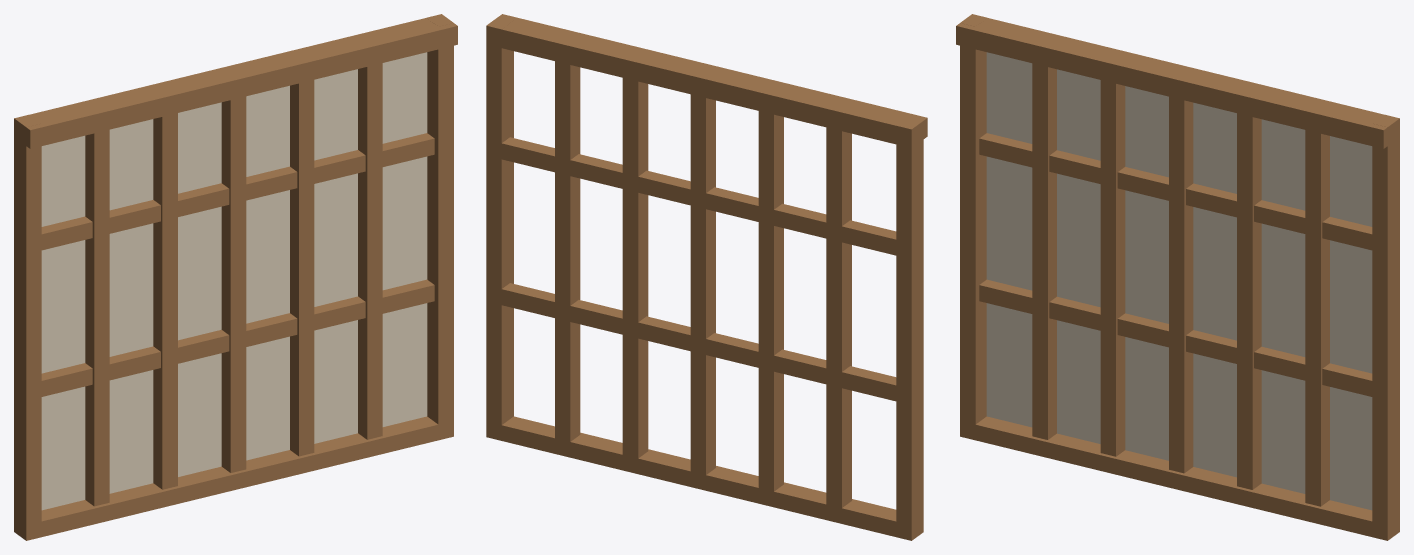
The model's file is jap-door.glb.
The picture shows the model from 3 angles, left to right: view 1: azimuth 30°, elevation 25°; view 2: azimuth 150°, elevation 25°; view 3: azimuth 330°, elevation 25°; orthographic projection.
Visible parts, largest first — view 1: Door; view 2: Door; view 3: Door.
Boxes of the visible parts, bbox=[...] form: Door: bbox=[14, 14, 457, 540]; Door: bbox=[486, 14, 927, 540]; Door: bbox=[956, 14, 1399, 540].
Bounding box in the file's own units: 4 × 3.7 × 0.2617.
2 materials, 1 textured.
